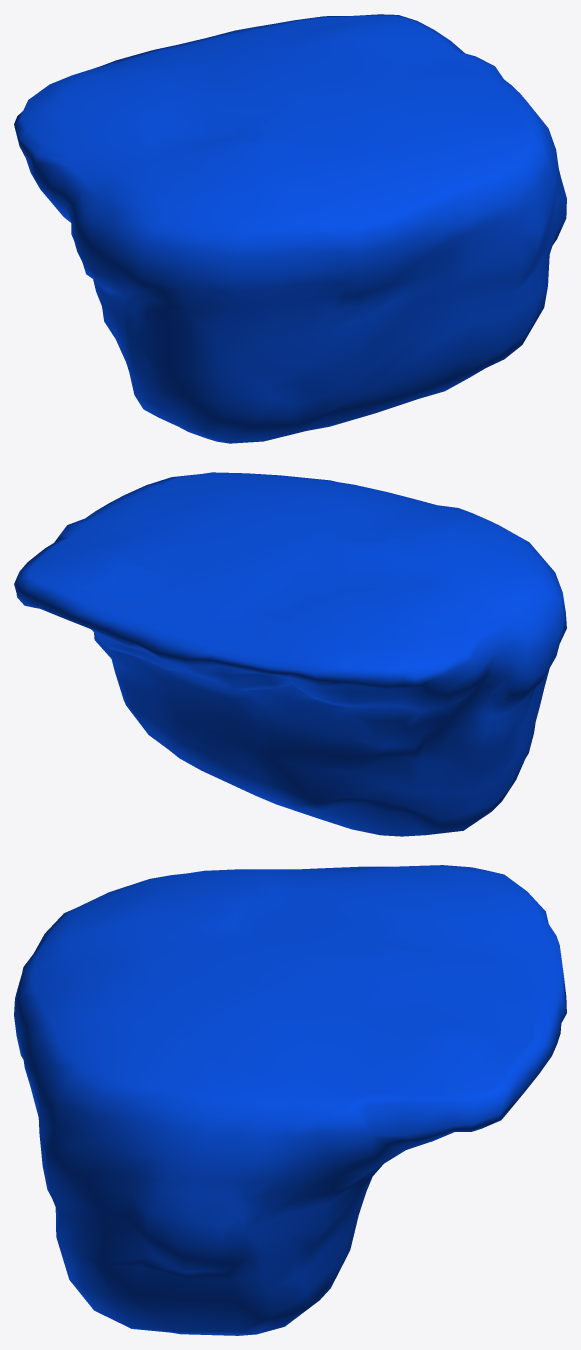
Rendered from Mega_Rock_02A_Lod0.fbx.
3 renders of one model, top to bottom at view 1: azimuth 30°, elevation 25°; view 2: azimuth 150°, elevation 25°; view 3: azimuth 270°, elevation 25°, orthographic. The views are drawn at different scales.
Visible parts, largest first — view 1: Mega_Rock_02A_Lod0; view 2: Mega_Rock_02A_Lod0; view 3: Mega_Rock_02A_Lod0.
Boxes of the visible parts, x1,y1,x2,y2 form: Mega_Rock_02A_Lod0: [14, 14, 566, 443]; Mega_Rock_02A_Lod0: [14, 472, 566, 836]; Mega_Rock_02A_Lod0: [14, 865, 566, 1335].
Size of the model in its own units: 4511 by 2689 by 3926.
